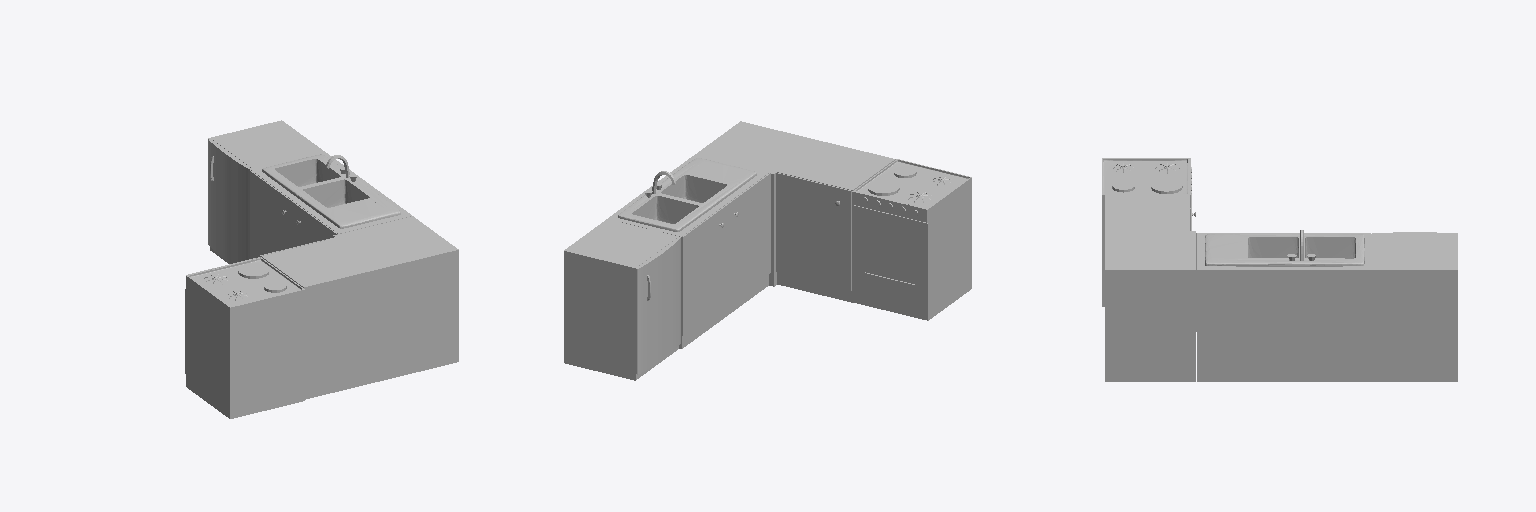
The model's file is LV_lowerShelf.obj.
3 views of the same model, side by side, from view 1: azimuth 30°, elevation 25°; view 2: azimuth 150°, elevation 25°; view 3: azimuth 270°, elevation 25° (orthographic).
Parts seen in each view (by area): view 1: Porte_330; view 2: Porte_330; view 3: Porte_330.
Part boxes in pixels (bbox=[...]): Porte_330: bbox=[185, 120, 458, 418]; Porte_330: bbox=[564, 121, 971, 380]; Porte_330: bbox=[1102, 158, 1457, 381].
Size of the model in its own units: 2.97 by 1.73 by 3.98.